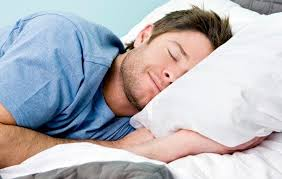sleeping: (1, 10, 282, 170)
